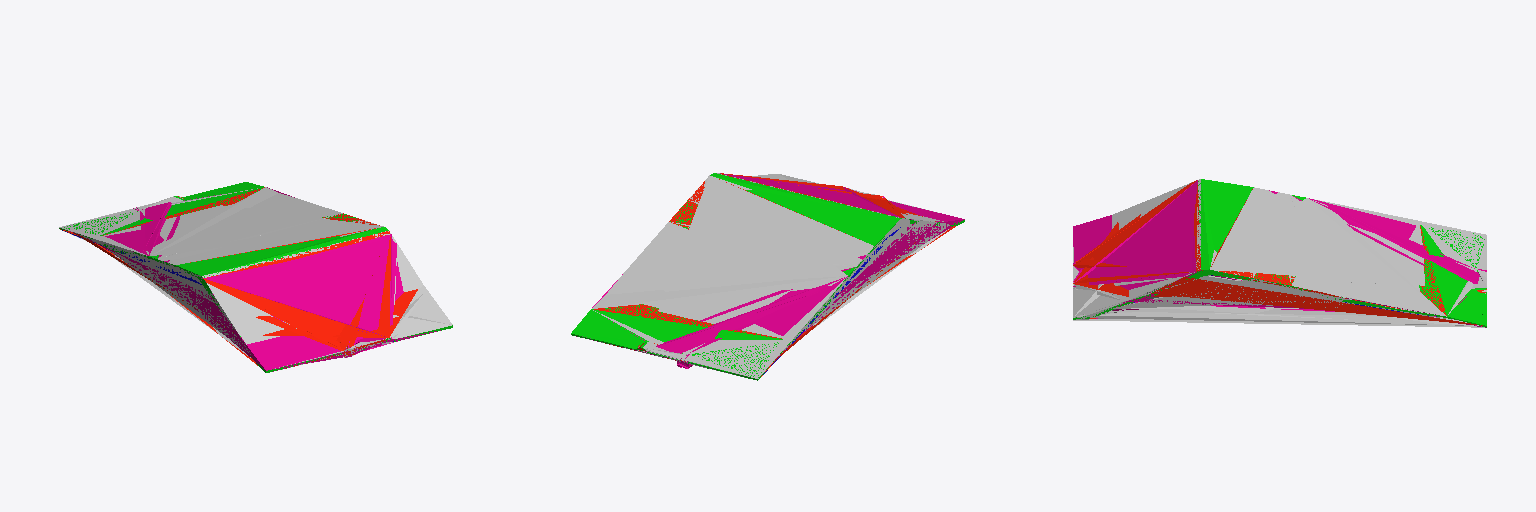
3 renders of one model, left to right at view 1: azimuth 30°, elevation 25°; view 2: azimuth 150°, elevation 25°; view 3: azimuth 270°, elevation 25°, orthographic.
Visible parts, largest first — view 1: 04, tunnel_zuo, 03, tunnel_you, 01, Dong1; view 2: tunnel_zuo, 01, tunnel_you, 04, 03, Dong1; view 3: tunnel_zuo, 04, tunnel_you, 03, 01, Dong1.
Part boxes in pixels (x1,y1,x2,y2): 04: (70, 187, 440, 371); tunnel_zuo: (59, 187, 422, 368); 03: (60, 187, 417, 368); tunnel_you: (62, 188, 451, 369); 01: (59, 182, 452, 372); Dong1: (114, 214, 452, 357); tunnel_zuo: (589, 175, 937, 378); 01: (571, 173, 964, 380); tunnel_you: (593, 173, 949, 378); 04: (576, 173, 964, 368); 03: (594, 173, 955, 376); Dong1: (582, 174, 948, 377); tunnel_zuo: (1073, 182, 1486, 327); 04: (1073, 180, 1486, 327); tunnel_you: (1073, 187, 1486, 327); 03: (1073, 180, 1486, 325); 01: (1073, 179, 1486, 327); Dong1: (1073, 179, 1466, 322).
Size of the model in its own units: 18 by 5.92 by 34.53.